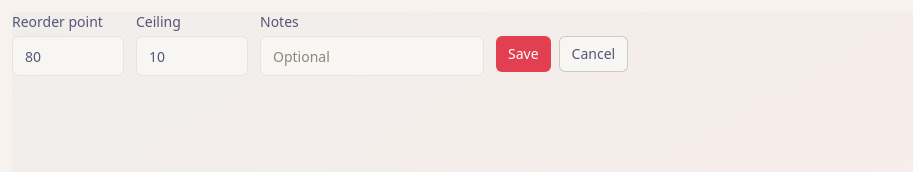
Test case: ReplenishmentPolicyForm › rejects a ceiling below the reorder point
Click the button "Save" at x=523, y=54, box [496,36,551,72]
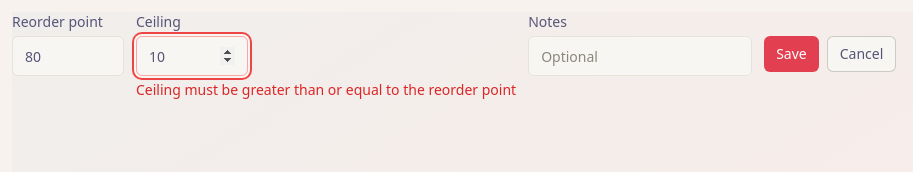
expect the text "Ceiling must be greater than or equal to the reorder point" is shown: met, box [136,80,516,100]
